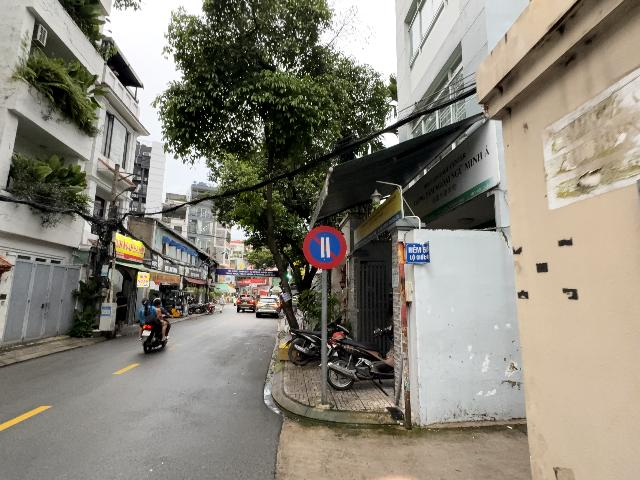cam-do-xe-ngay-chan: (302, 225, 347, 269)
